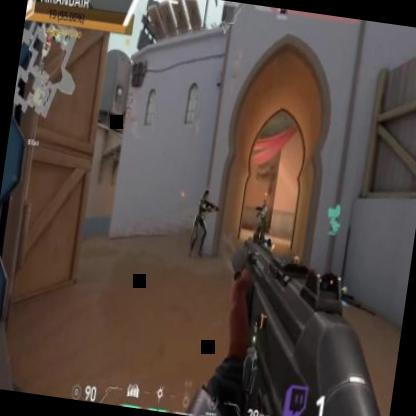enemy: (186, 187, 216, 256)
enemy_head: (202, 188, 209, 202)
